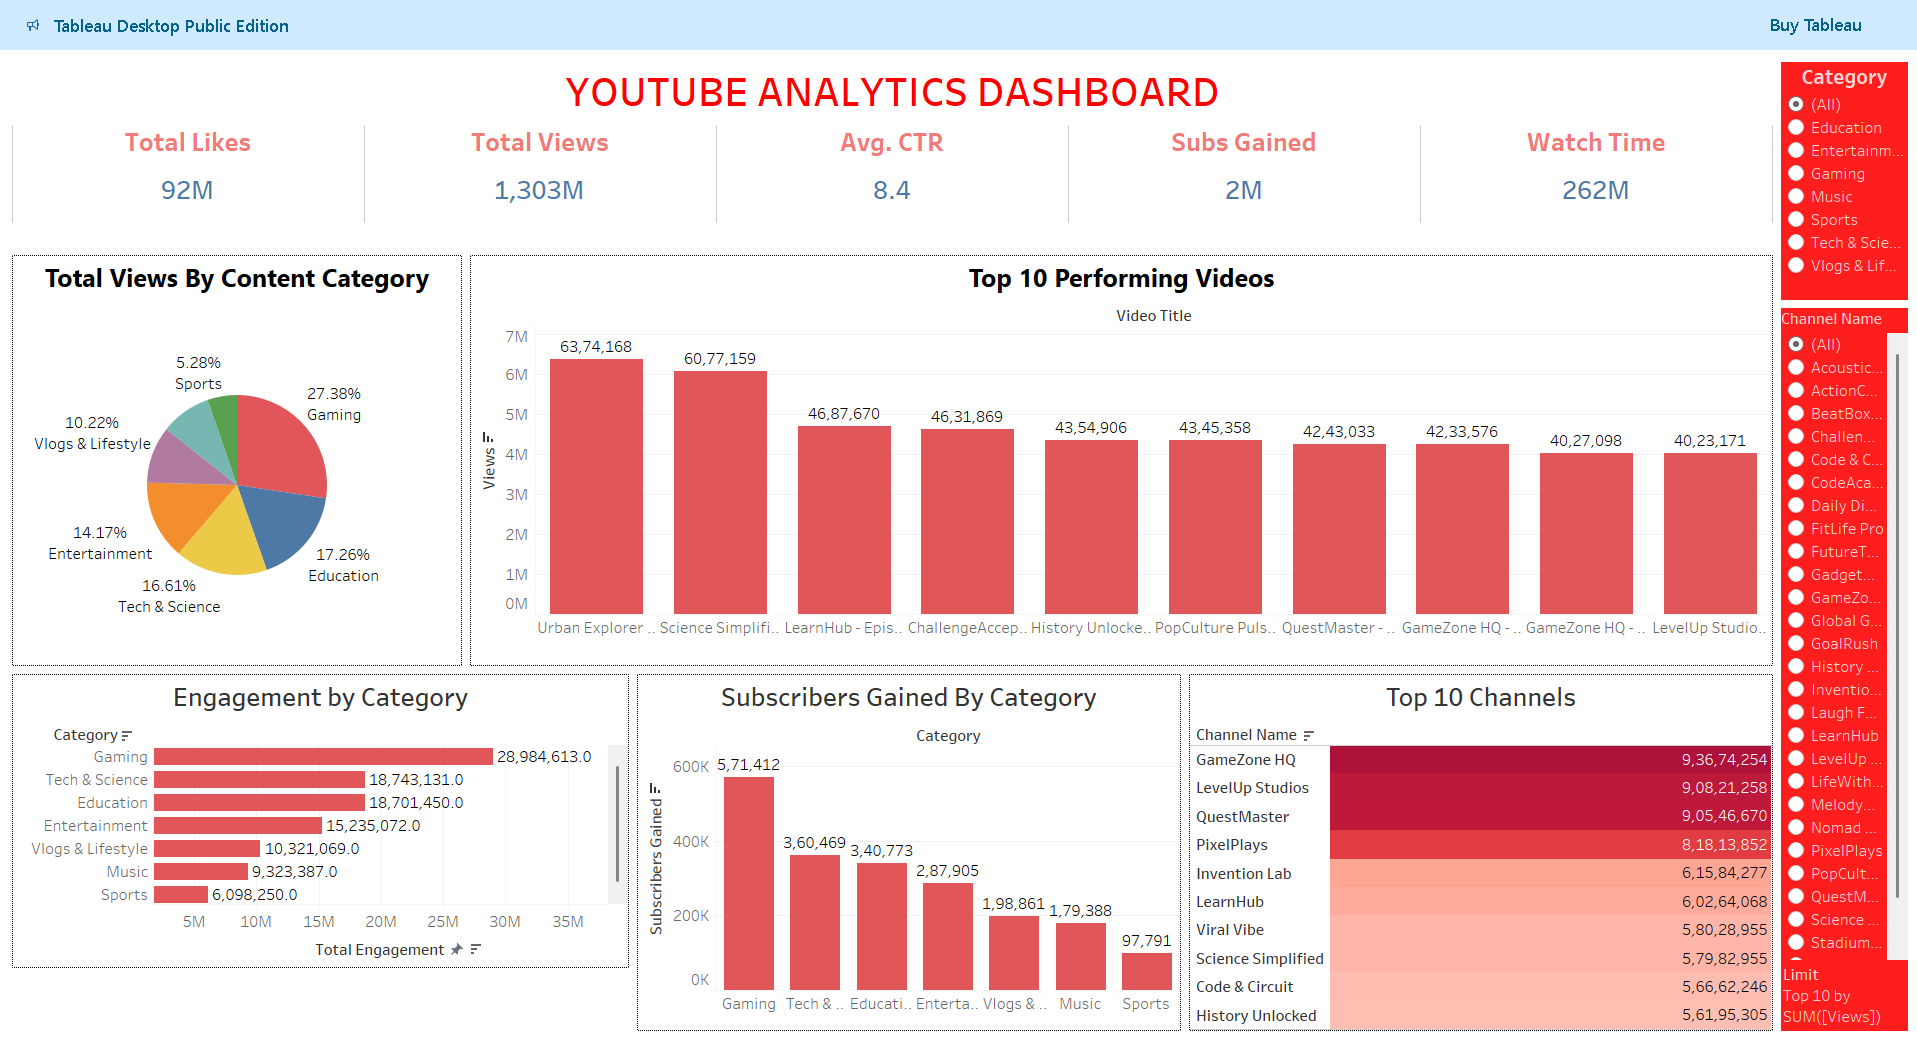

Layout of this report page (visuals, bound fields, positions):
{"tool":"tableau","page":{"name":"Dashboard 1","canvas":[1000,1000],"units":"permille","ordinal":0},"visuals":[{"type":"text","box":[4.2,8.1,921.4,63.5]},{"type":"filter","title":"Engagement by Category","param":"[federated.0dm17910c5vj4e1cco2mu0p85m39].[none:Category:nk]","box":[925.5,8.1,70.3,247.7]},{"type":"worksheet","title":"kpis","mark":"Automatic","box":[4.2,71.5,921.4,106.8]},{"type":"worksheet","title":"Views by Category","mark":"Pie","box":[4.2,202.3,238.6,422.3]},{"type":"worksheet","title":"Top 10 Videos","mark":"Bar","rows":["Views"],"cols":["VideoTitle"],"box":[242.7,202.3,682.7,422.3]},{"type":"filter","title":"Top 10 Channels","param":"[federated.0dm17910c5vj4e1cco2mu0p85m39].[none:ChannelName:nk]","box":[925.5,255.8,70.3,736.1]},{"type":"worksheet","title":"Engagement by Category","mark":"Bar","rows":["Category"],"cols":["Calculation_654147907654328320"],"box":[4.2,624.6,325.6,304.1]},{"type":"worksheet","title":"SUBSCRIBERS GAIND BY CATEGORY","mark":"Automatic","rows":["SubscribersGained"],"cols":["Category"],"box":[329.8,624.6,287.2,367.3]},{"type":"worksheet","title":"Top 10 Channels","mark":"Square","rows":["ChannelName"],"box":[617,624.6,308.5,367.3]}]}

Visuals, with their boxes on the dashboard's canvas, which has no fixed pixel size, in thousandths of its width and height (x1, y1, x2, y2). These are canvas units, not pixel positions in the 1917x1037 screenshot, which may show the page scaled, cropped or inside an application window:
text: <region>4, 8, 926, 72</region>
"Engagement by Category" filter: <region>926, 8, 996, 256</region>
"kpis" worksheet: <region>4, 72, 926, 178</region>
"Views by Category" worksheet (Pie marks): <region>4, 202, 243, 625</region>
"Top 10 Videos" worksheet (Bar marks): <region>243, 202, 925, 625</region>
"Top 10 Channels" filter: <region>926, 256, 996, 992</region>
"Engagement by Category" worksheet (Bar marks): <region>4, 625, 330, 929</region>
"SUBSCRIBERS GAIND BY CATEGORY" worksheet: <region>330, 625, 617, 992</region>
"Top 10 Channels" worksheet (Square marks): <region>617, 625, 926, 992</region>
